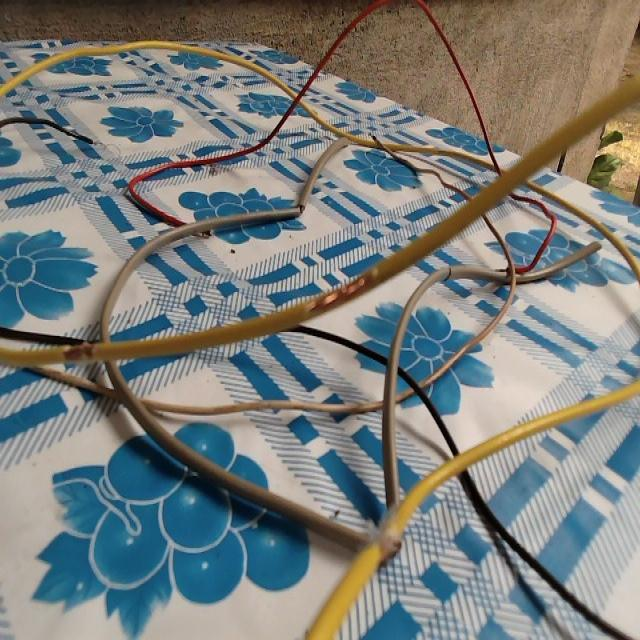-: (306, 265, 382, 311), (59, 338, 96, 366), (88, 132, 109, 151), (441, 263, 459, 285), (294, 198, 310, 214), (366, 127, 380, 144)
